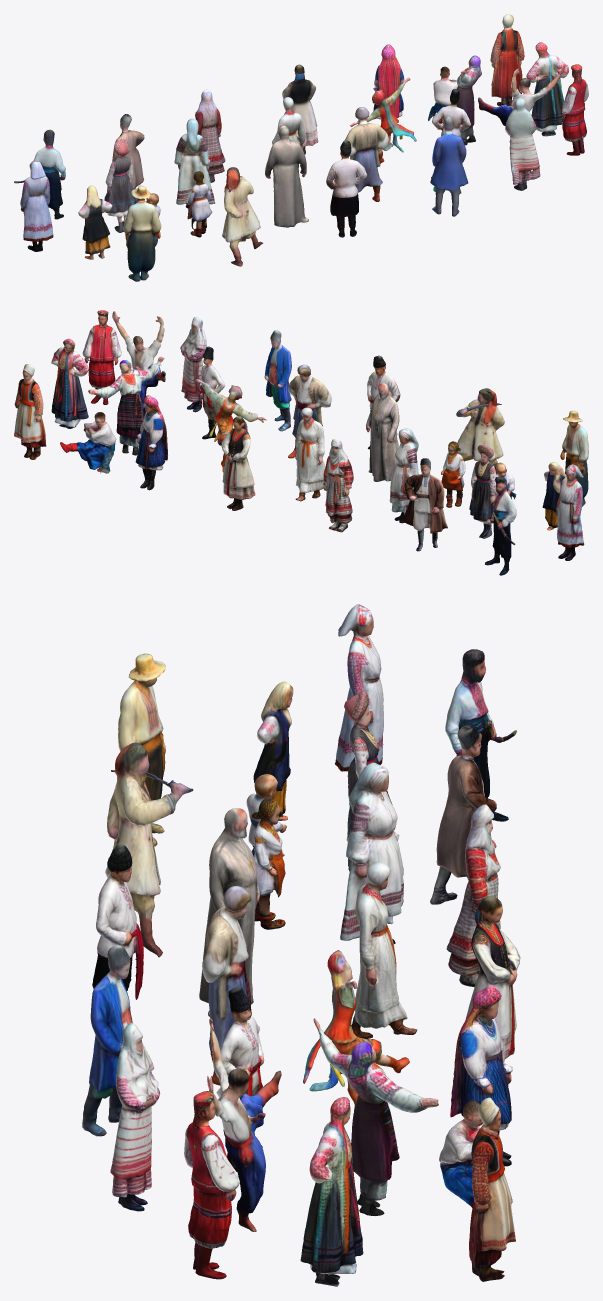
Rendered from Ukrainian people.glb.
The picture shows the model from 3 angles, top to bottom: view 1: azimuth 30°, elevation 25°; view 2: azimuth 150°, elevation 25°; view 3: azimuth 270°, elevation 25°; orthographic projection. The views are drawn at different scales.
Parts seen in each view (by area): view 1: geometry_0.022, geometry_0.004, geometry_0.020, geometry_0.023, geometry_0, geometry_0.017, geometry_0.015, geometry_0.014, geometry_0.010, geometry_0.021, geometry_0.013, geometry_0.002 (+14 smaller); view 2: geometry_0.008, geometry_0.005, geometry_0.022, geometry_0, geometry_0.023, geometry_0.003, geometry_0.007, geometry_0.010, geometry_0.001, geometry_0.012, geometry_0.009, geometry_0.014 (+14 smaller); view 3: geometry_0, geometry_0.008, geometry_0.023, geometry_0.013, geometry_0.012, geometry_0.015, geometry_0.003, geometry_0.010, geometry_0.026, geometry_0.009, geometry_0.020, geometry_0.005 (+15 smaller).
Boxes of the visible parts, x1,y1,x2,y2 form: geometry_0.022: [265, 125, 308, 227]; geometry_0.004: [123, 185, 161, 281]; geometry_0.020: [430, 116, 468, 216]; geometry_0.023: [222, 167, 263, 266]; geometry_0: [526, 42, 568, 136]; geometry_0.017: [326, 140, 367, 237]; geometry_0.015: [505, 98, 540, 190]; geometry_0.014: [20, 161, 53, 251]; geometry_0.010: [490, 14, 524, 106]; geometry_0.021: [345, 107, 388, 201]; geometry_0.013: [174, 118, 215, 208]; geometry_0.002: [104, 139, 137, 232]; geometry_0.008: [88, 356, 164, 455]; geometry_0.005: [402, 458, 447, 551]; geometry_0.022: [366, 383, 399, 481]; geometry_0: [51, 338, 88, 428]; geometry_0.023: [456, 388, 504, 474]; geometry_0.003: [295, 407, 325, 501]; geometry_0.007: [221, 416, 255, 510]; geometry_0.010: [14, 364, 46, 459]; geometry_0.001: [323, 439, 353, 532]; geometry_0.012: [82, 310, 121, 404]; geometry_0.009: [135, 395, 167, 490]; geometry_0.014: [556, 464, 584, 560]; geometry_0: [300, 1097, 363, 1286]; geometry_0.008: [313, 1018, 438, 1215]; geometry_0.023: [105, 742, 193, 957]; geometry_0.013: [340, 762, 403, 943]; geometry_0.012: [184, 1091, 239, 1279]; geometry_0.015: [110, 1023, 160, 1211]; geometry_0.003: [351, 861, 417, 1038]; geometry_0.010: [469, 1097, 515, 1281]; geometry_0.026: [207, 1018, 281, 1231]; geometry_0.009: [450, 985, 512, 1166]; geometry_0.020: [82, 945, 132, 1136]; geometry_0.005: [430, 725, 496, 904].
Bounding box in the file's own units: 10.81 × 2 × 3.84.
Materials: 27 (27 with a texture image).
